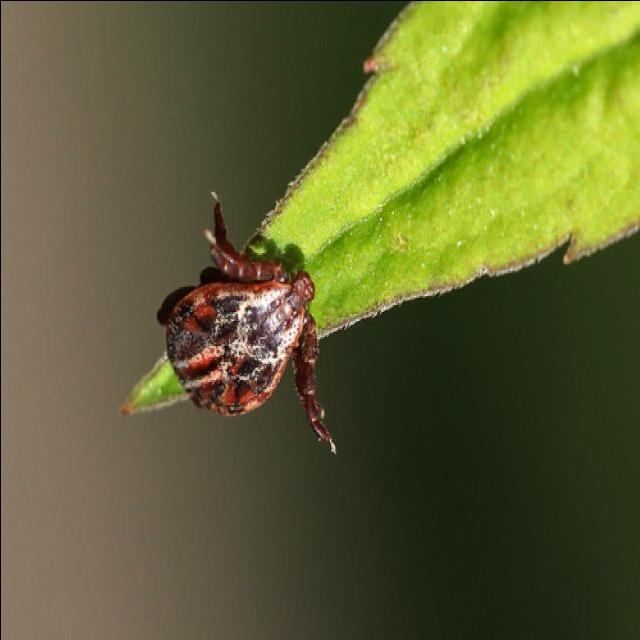Dermacentor Reticulatus-F: (156, 198, 335, 451)
